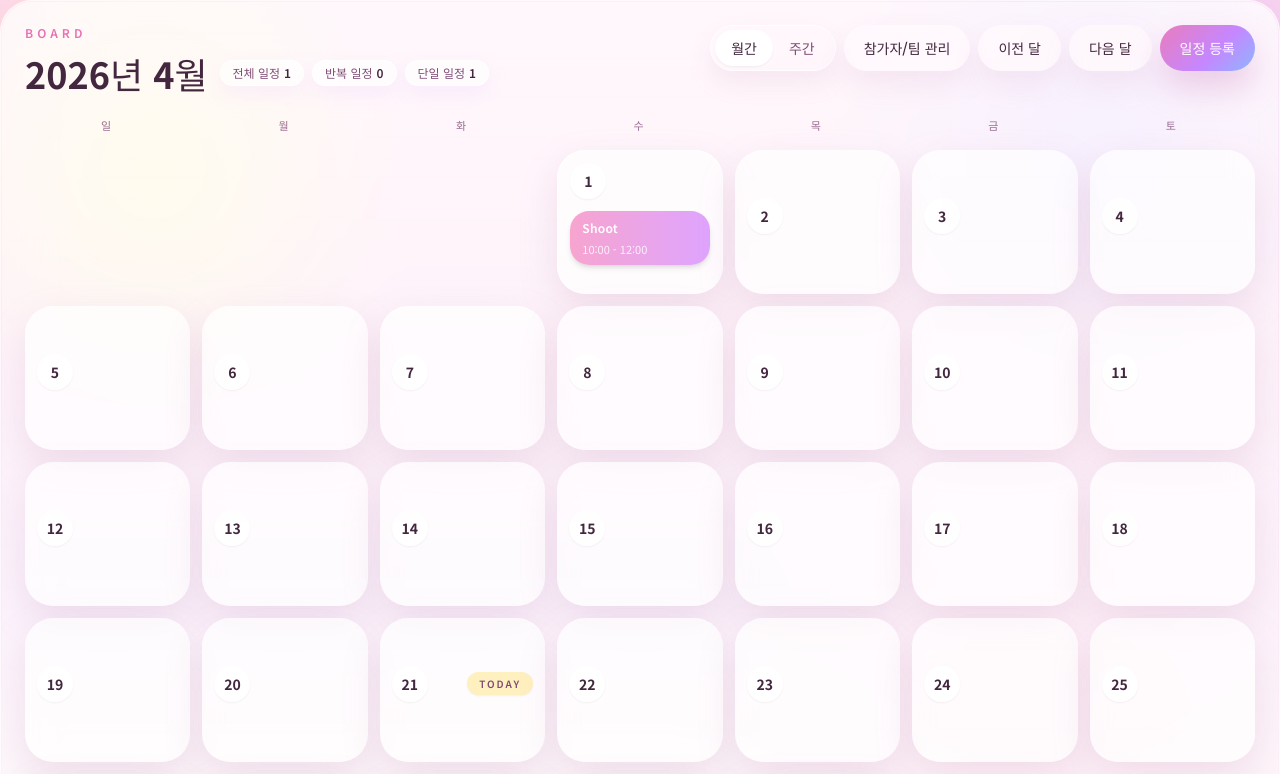
Test case: CalendarPage › fetches an adjacent month when the weekly range crosses a month boundary
Click the button "주간" at [802, 48], box [773,30,831,66]
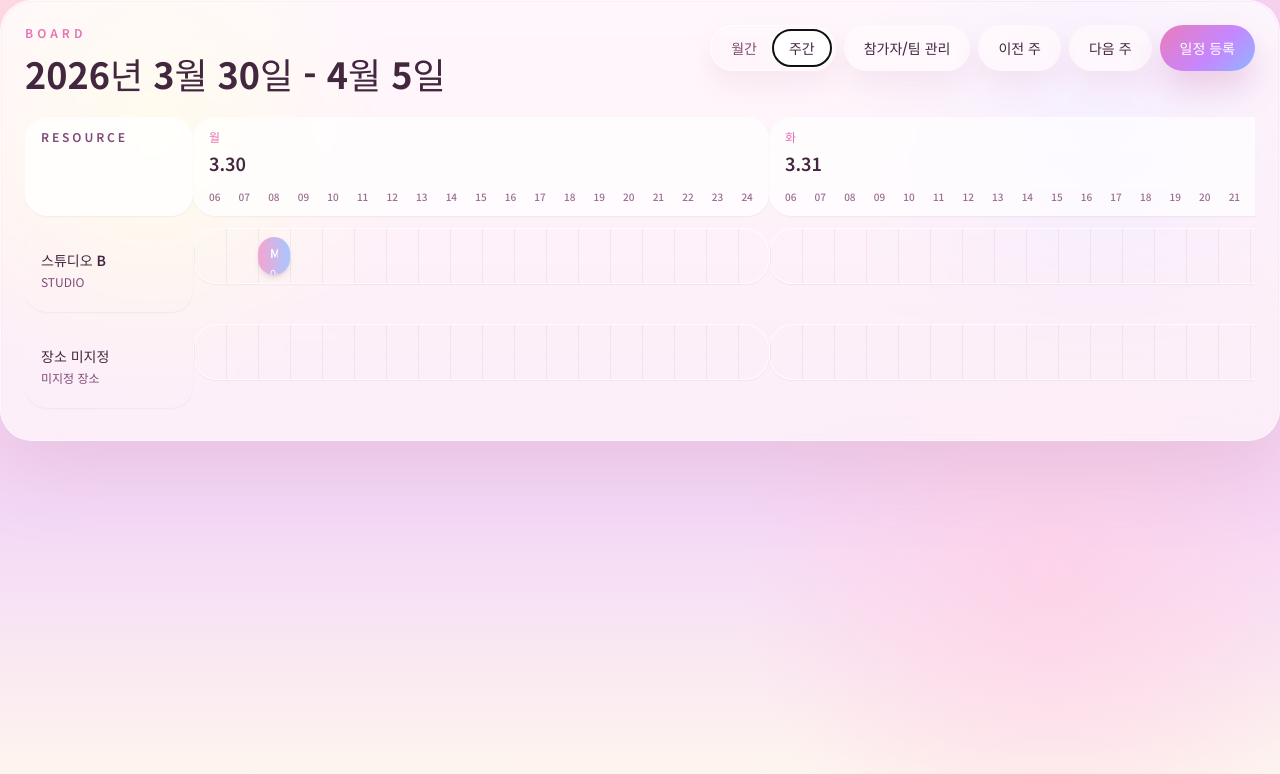
Expected: the text "스튜디오 B" is shown, [41,250,106,270]
